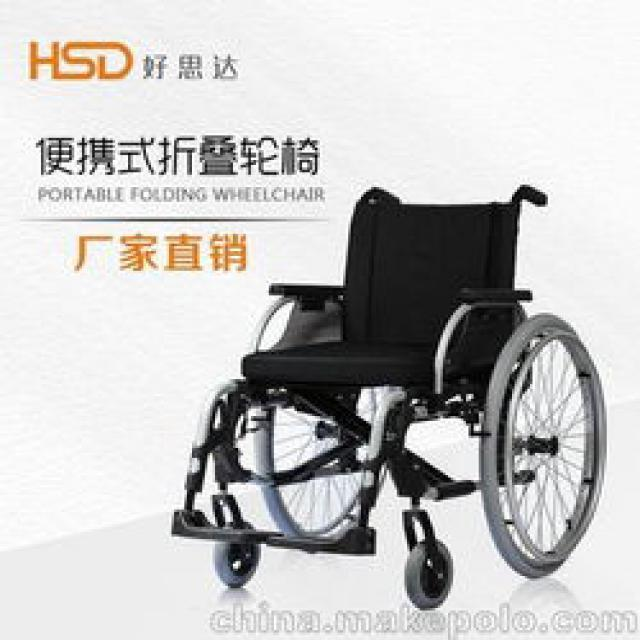wheelchairs: (177, 185, 608, 610)
